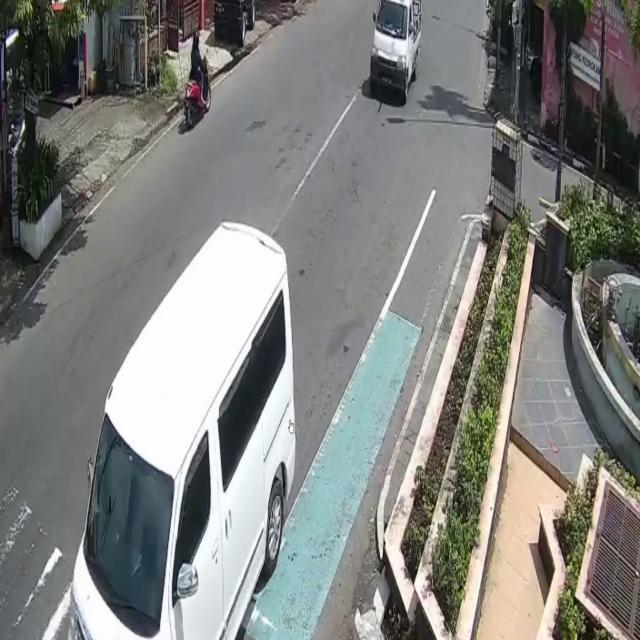car: (70, 220, 296, 640), (370, 0, 421, 107)
motorbike: (184, 65, 210, 128)
